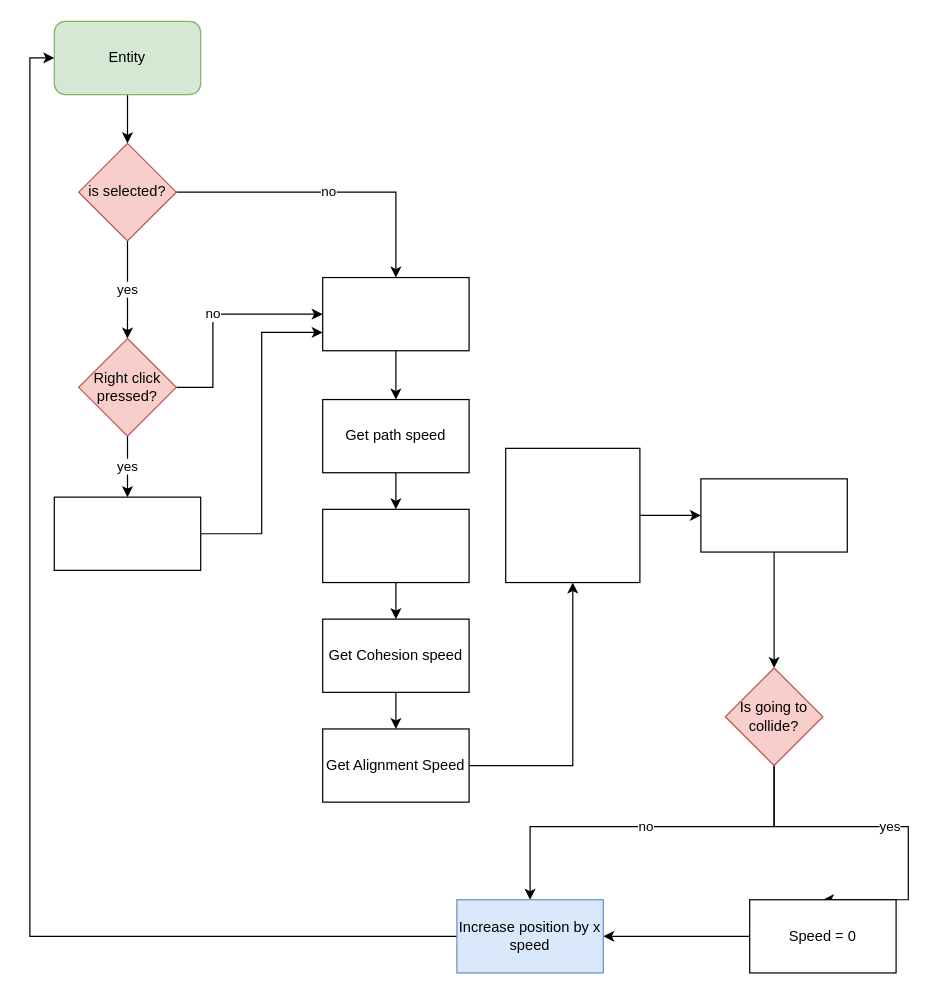
The diagram is 939 pixels wide and 994 high, and some of its shapes have lost their labels. Each missing label, with the box of its shape:
Add all speeds to entity speed vector: (504, 447, 640, 583)
Check for possible collisions: (700, 478, 847, 552)
Create and store path: (53, 496, 201, 570)
Get Separation speed: (321, 508, 469, 583)
Update: (321, 276, 469, 351)
